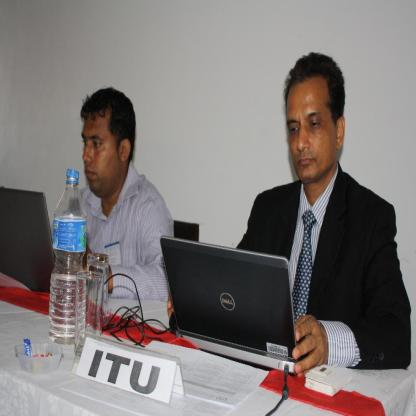board: (163, 239, 307, 380), (50, 170, 87, 344), (0, 186, 56, 293)
